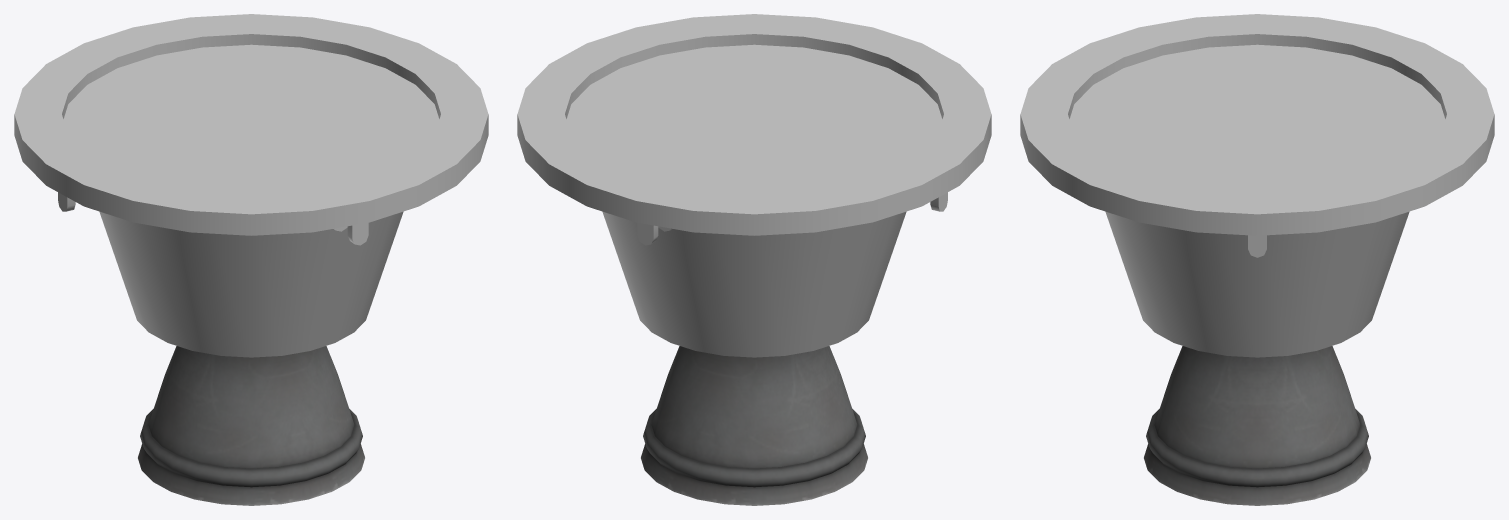
File: corvus_lv_engine_s1_2.obj
3 renders of one model, left to right at view 1: azimuth 30°, elevation 25°; view 2: azimuth 150°, elevation 25°; view 3: azimuth 270°, elevation 25°, orthographic.
Visible parts, largest first — view 1: corvus_lv_engine_s1_2, corvus_lv_engine_s1_2_nozzle; view 2: corvus_lv_engine_s1_2, corvus_lv_engine_s1_2_nozzle; view 3: corvus_lv_engine_s1_2, corvus_lv_engine_s1_2_nozzle.
Part boxes in pixels (<box>): corvus_lv_engine_s1_2: <box>14,14,488,357</box>; corvus_lv_engine_s1_2_nozzle: <box>138,346,364,505</box>; corvus_lv_engine_s1_2: <box>517,14,991,357</box>; corvus_lv_engine_s1_2_nozzle: <box>641,346,867,505</box>; corvus_lv_engine_s1_2: <box>1020,14,1494,357</box>; corvus_lv_engine_s1_2_nozzle: <box>1144,346,1370,505</box>.
Size of the model in its own units: 1.25 by 1 by 1.25.
